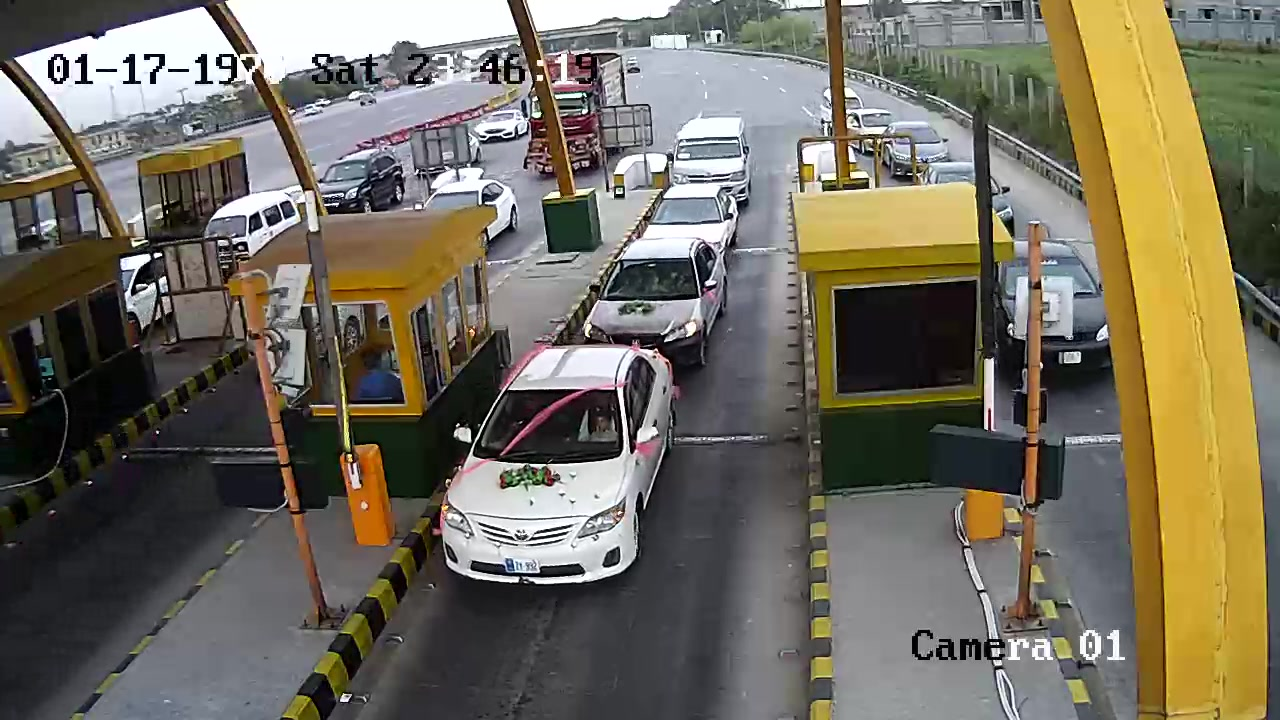F1: (433, 343, 683, 599), (576, 239, 733, 351)
